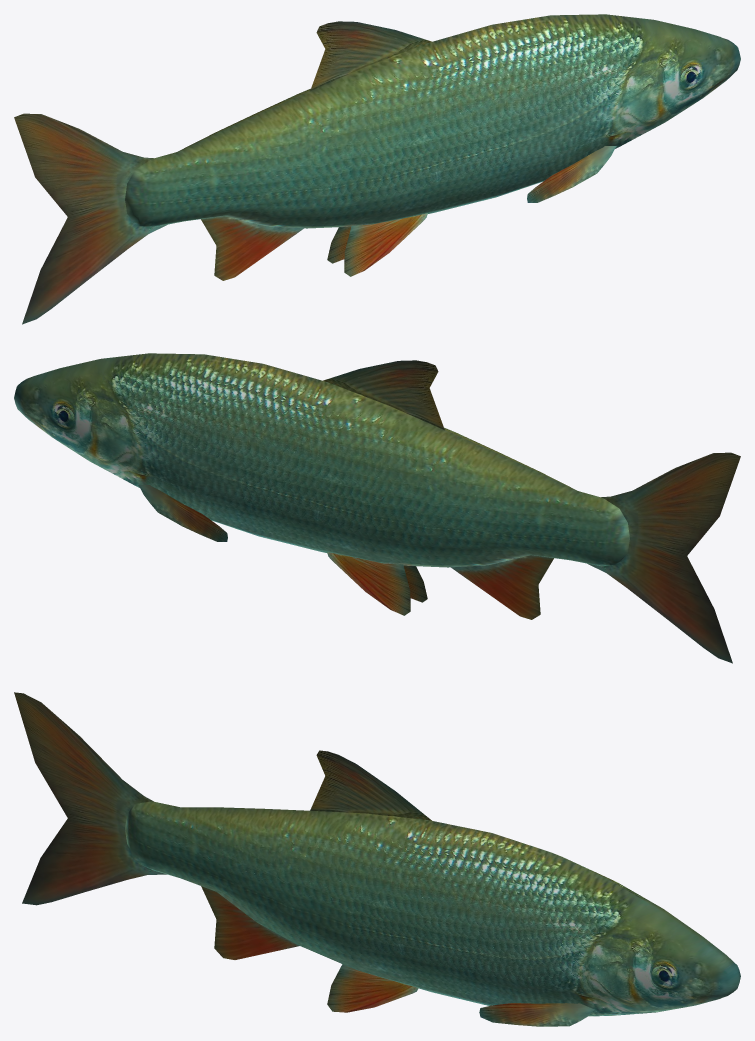
File: CommonNase.glb
The picture shows the model from 3 angles, top to bottom: view 1: azimuth 30°, elevation 25°; view 2: azimuth 150°, elevation 25°; view 3: azimuth 330°, elevation 25°; orthographic projection.
Parts seen in each view (by area): view 1: CommonNase; view 2: CommonNase; view 3: CommonNase.
Boxes of the visible parts, x1,y1,x2,y2 form: CommonNase: [14, 14, 740, 324]; CommonNase: [14, 353, 740, 663]; CommonNase: [14, 692, 740, 1026].
Bounding box in the file's own units: 2 × 0.6599 × 0.2274.
Materials: 1 (1 with a texture image).
